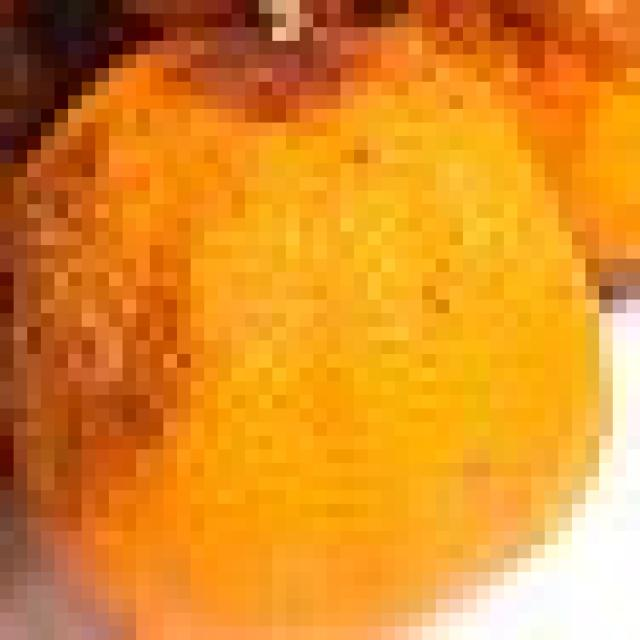overripe: (0, 7, 615, 640)
